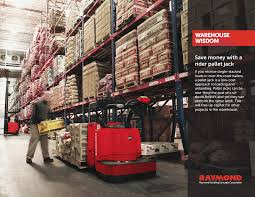Pallet Jack: (53, 95, 158, 183)
